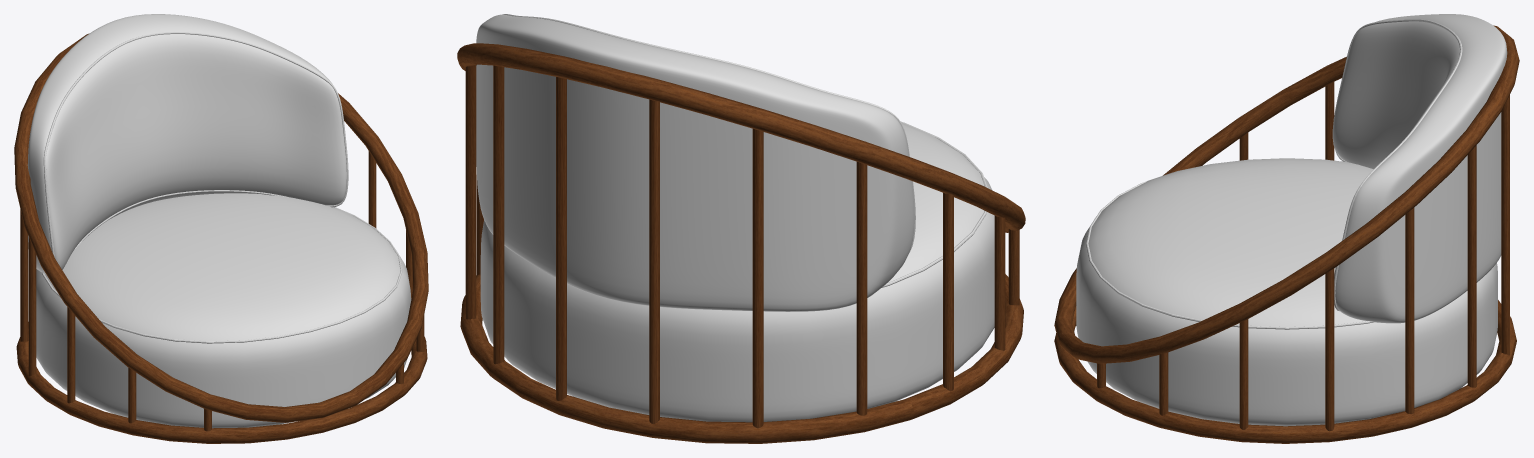
Rendered from koltuk.glb.
The picture shows the model from 3 angles, left to right: view 1: azimuth 30°, elevation 25°; view 2: azimuth 150°, elevation 25°; view 3: azimuth 270°, elevation 25°; orthographic projection. The views are drawn at different scales.
Visible parts, largest first — view 1: Seat, Rest, Frame, Rest.001; view 2: Rest, Seat, Frame, Rest.001; view 3: Seat, Rest, Frame, Rest.001.
Part boxes in pixels (box(x1,y1,x2,y2)): Seat: box(36, 193, 411, 428); Rest: box(27, 14, 346, 273); Frame: box(14, 33, 428, 443); Rest.001: box(42, 32, 402, 343); Rest: box(476, 14, 914, 311); Seat: box(480, 122, 994, 422); Frame: box(457, 43, 1025, 443); Rest.001: box(502, 14, 987, 287); Seat: box(1076, 158, 1497, 426); Rest: box(1332, 14, 1507, 323); Frame: box(1054, 25, 1519, 443); Rest.001: box(1086, 19, 1462, 329).
Size of the model in its own units: 1.05 by 0.7572 by 1.05.
2 materials, 1 textured.
